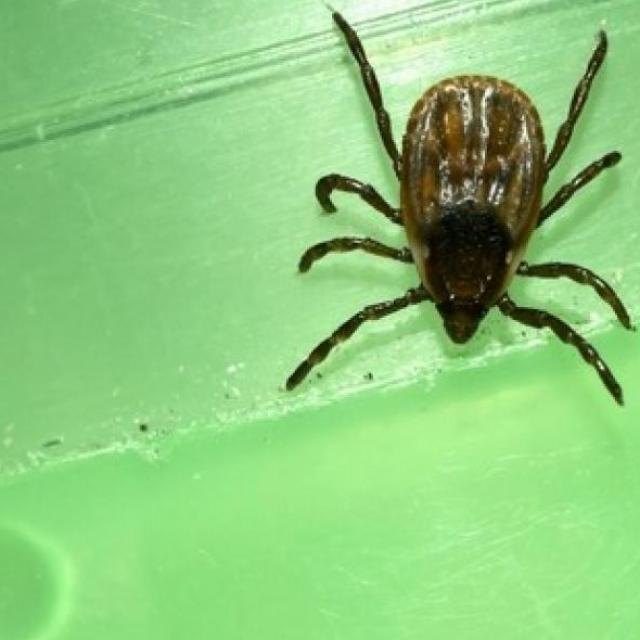Rhipicephalus Sanguineus-F: (284, 11, 634, 408)
